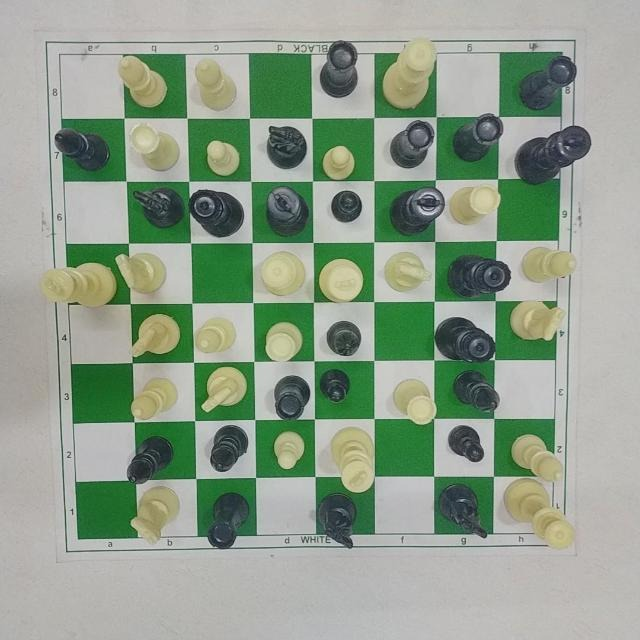black-bishop: (46, 122, 117, 174), (453, 365, 507, 417), (124, 433, 176, 485), (207, 423, 255, 478), (324, 318, 361, 360)
black-king: (514, 124, 596, 193), (386, 183, 448, 239), (259, 179, 309, 237)
black-knight: (439, 481, 495, 543), (314, 490, 366, 550), (264, 115, 312, 171), (132, 183, 184, 231)
black-pawn: (447, 424, 489, 468), (330, 188, 369, 222), (321, 365, 353, 405)
black-queen: (449, 251, 517, 303), (189, 182, 245, 240), (435, 312, 497, 364)
black-rook: (514, 51, 577, 112), (316, 35, 366, 101), (453, 111, 508, 167), (204, 490, 252, 550), (387, 117, 436, 169), (271, 373, 313, 423)
white-bishop: (187, 50, 245, 118), (508, 428, 573, 486), (109, 49, 170, 110), (524, 241, 578, 284), (192, 310, 241, 357), (132, 374, 181, 420)
white-king: (36, 259, 116, 315), (328, 424, 386, 496), (313, 256, 369, 306)
white-knight: (124, 484, 185, 549), (127, 310, 184, 362), (381, 245, 437, 297), (201, 362, 253, 416), (112, 244, 169, 293), (514, 298, 567, 346)
white-pawn: (267, 427, 315, 470), (321, 141, 362, 182), (206, 132, 241, 177)
white-queen: (502, 475, 577, 554), (381, 36, 437, 114), (259, 248, 309, 297)
white-rook: (129, 117, 184, 173), (447, 179, 505, 231), (391, 375, 441, 427), (260, 316, 305, 365)
